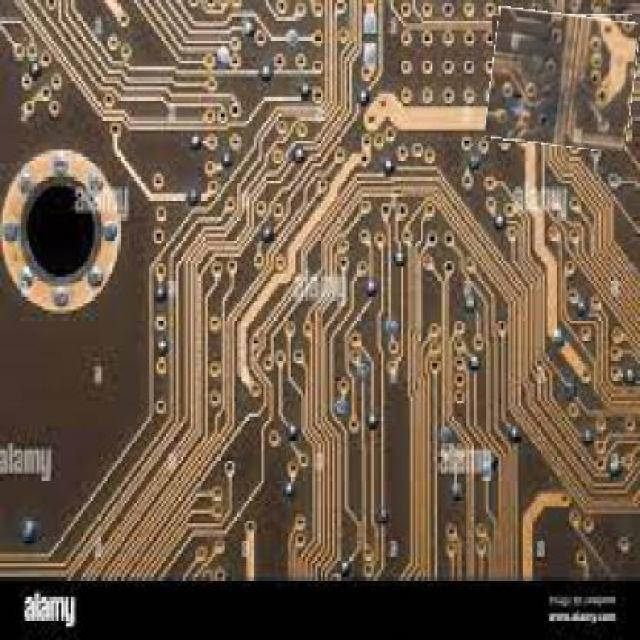Burn: (488, 10, 638, 148)
